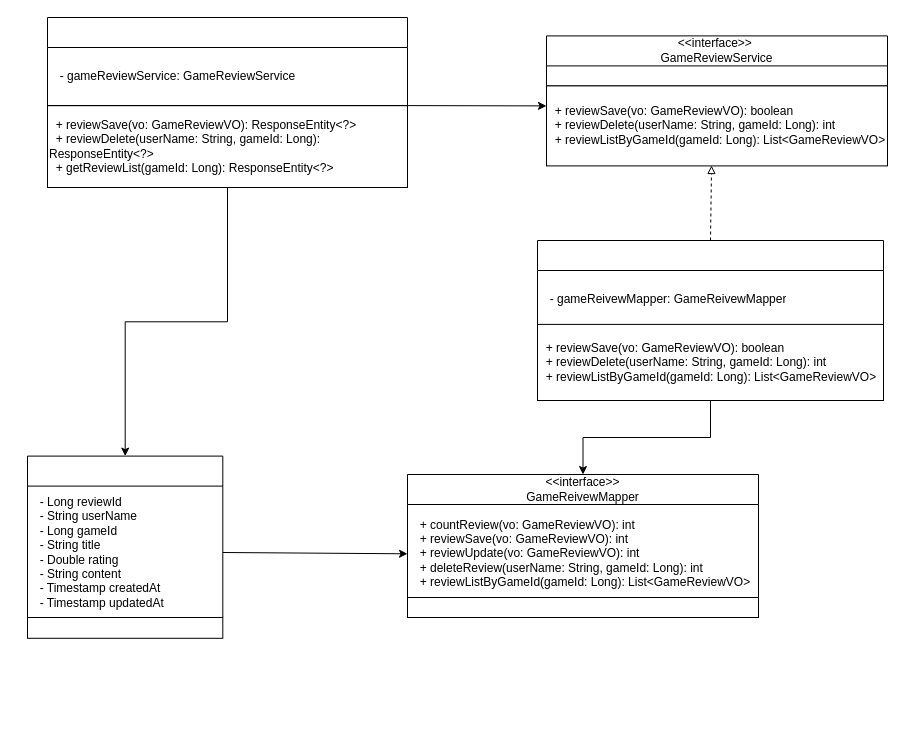
The diagram is 905 pixels wide and 746 high, and some of its shapes have lost their labels. Each missing label, with the box of its shape:
GameReviewController: (46, 16, 408, 106)
GameReviewServiceImpl: (536, 240, 884, 329)
GameReviewVO: (26, 455, 223, 618)
